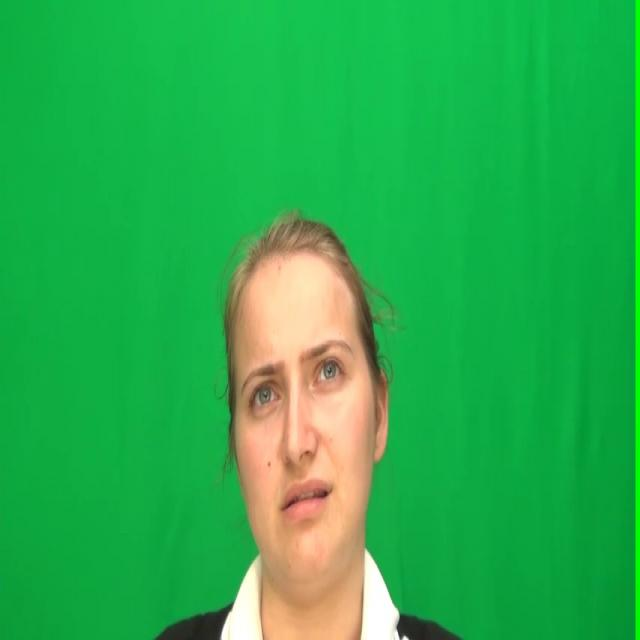Boredom: (225, 250, 367, 590)
